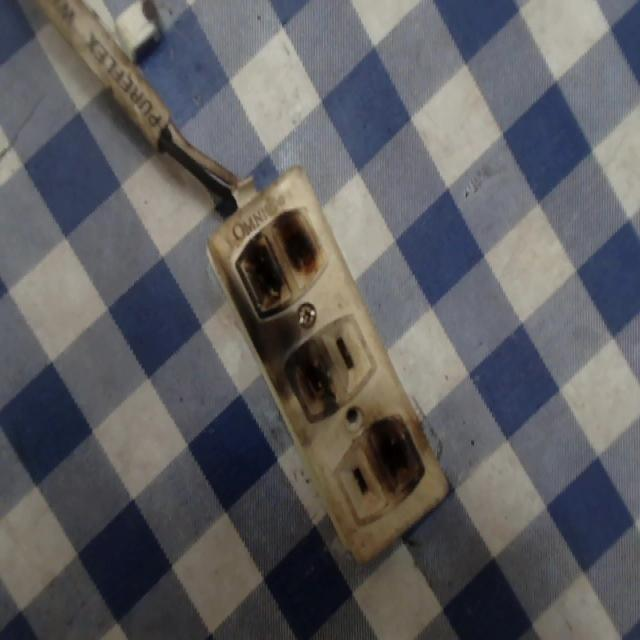-: (219, 205, 334, 318), (363, 409, 437, 514), (285, 337, 337, 415)
